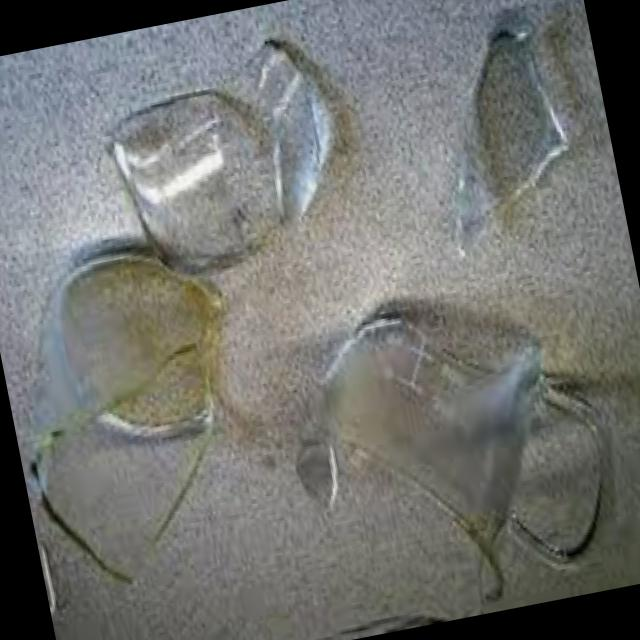PecahanKaca: (268, 273, 630, 635), (0, 230, 282, 607), (92, 29, 370, 296), (412, 11, 606, 263)
